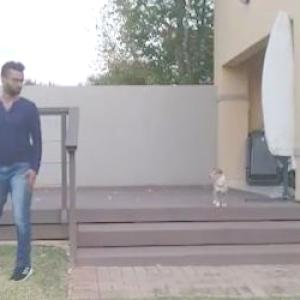follow: (0, 55, 45, 283)
